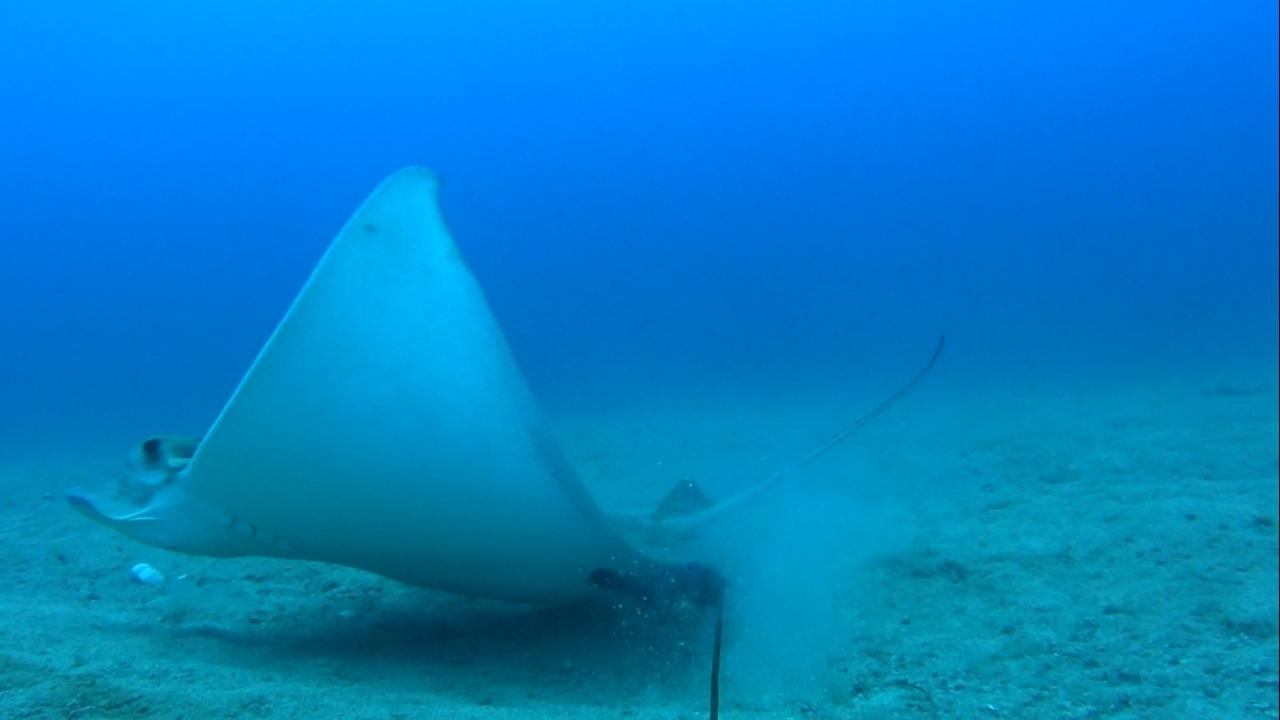myliobatis: (55, 158, 953, 614)
